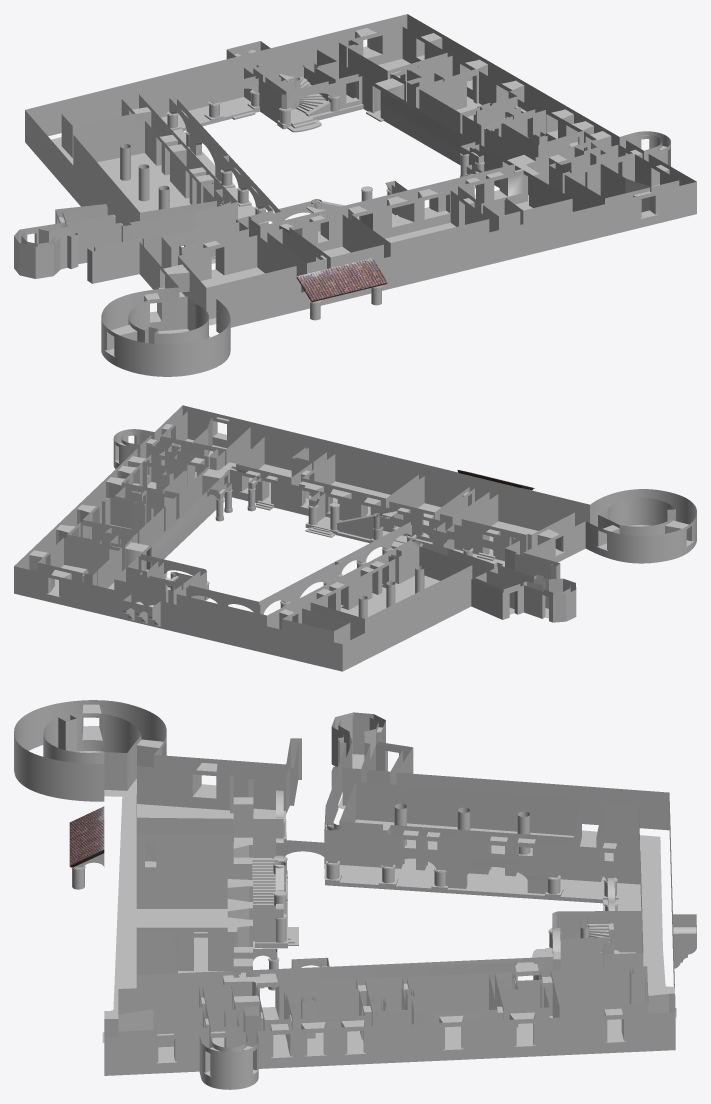
Rendered from 1_STAVS_2.fbx.
3 renders of one model, top to bottom at view 1: azimuth 30°, elevation 25°; view 2: azimuth 150°, elevation 25°; view 3: azimuth 270°, elevation 25°, orthographic. The views are drawn at different scales.
Visible parts, largest first — view 1: 1_STAVS_2, 1_STAVS, 1_GRIDA, 1_KAPNES, 1_JUMTS; view 2: 1_STAVS_2, 1_STAVS, 1_GRIDA, 1_KAPNES; view 3: 1_STAVS_2, 1_STAVS, 1_GRIDA, 1_KAPNES, 1_JUMTS, 1_METAL.
Part boxes in pixels (x1,y1,x2,y2): 1_STAVS_2: [14, 14, 407, 376]; 1_STAVS: [217, 14, 696, 327]; 1_GRIDA: [51, 59, 532, 337]; 1_KAPNES: [161, 74, 527, 263]; 1_JUMTS: [297, 258, 387, 300]; 1_STAVS_2: [14, 475, 696, 671]; 1_STAVS: [14, 405, 589, 626]; 1_GRIDA: [55, 439, 650, 618]; 1_KAPNES: [121, 496, 504, 607]; 1_STAVS_2: [14, 700, 675, 1011]; 1_STAVS: [104, 890, 696, 1089]; 1_GRIDA: [43, 751, 665, 1056]; 1_KAPNES: [252, 808, 641, 1019]; 1_JUMTS: [69, 806, 104, 865]; 1_METAL: [83, 726, 676, 1076].
Size of the model in its own units: 60023 by 3285 by 49116.
